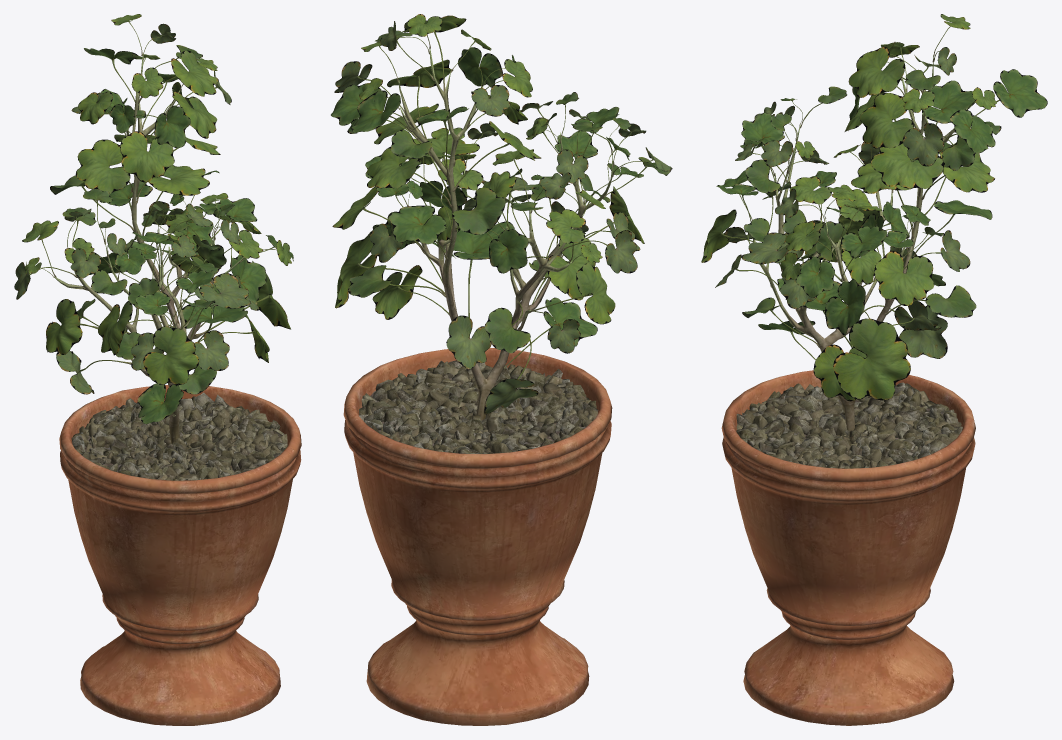
The model's file is potted_plant_01.glb.
The picture shows the model from 3 angles, left to right: view 1: azimuth 30°, elevation 25°; view 2: azimuth 150°, elevation 25°; view 3: azimuth 270°, elevation 25°; orthographic projection. The views are drawn at different scales.
Visible parts, largest first — view 1: potted_plant_01_stem, potted_plant_01_leaves; view 2: potted_plant_01_stem, potted_plant_01_leaves; view 3: potted_plant_01_stem, potted_plant_01_leaves.
Part boxes in pixels (x1,y1,x2,y2): potted_plant_01_stem: [54, 54, 301, 725]; potted_plant_01_leaves: [14, 14, 293, 424]; potted_plant_01_stem: [343, 48, 613, 725]; potted_plant_01_leaves: [331, 14, 672, 414]; potted_plant_01_stem: [721, 55, 975, 725]; potted_plant_01_leaves: [701, 14, 1047, 401].
Bounding box in the file's own units: 0.5874 × 1.34 × 0.6336.
Materials: 2 (2 with a texture image).
